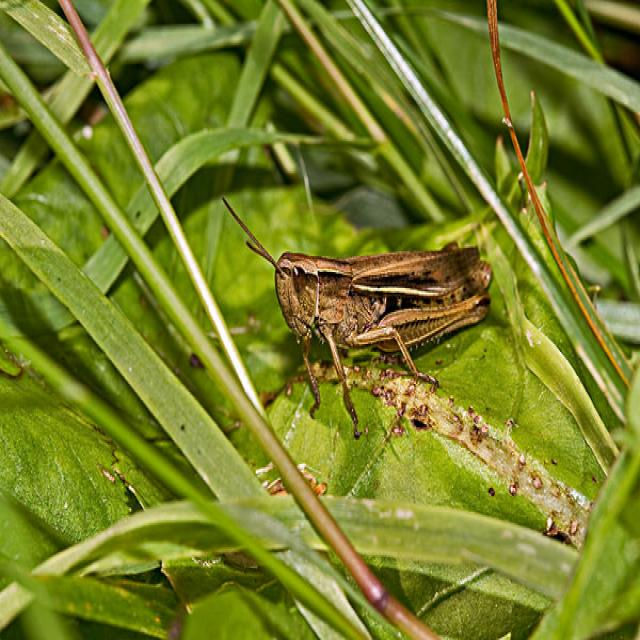ZhaMeng: (220, 198, 509, 384)
